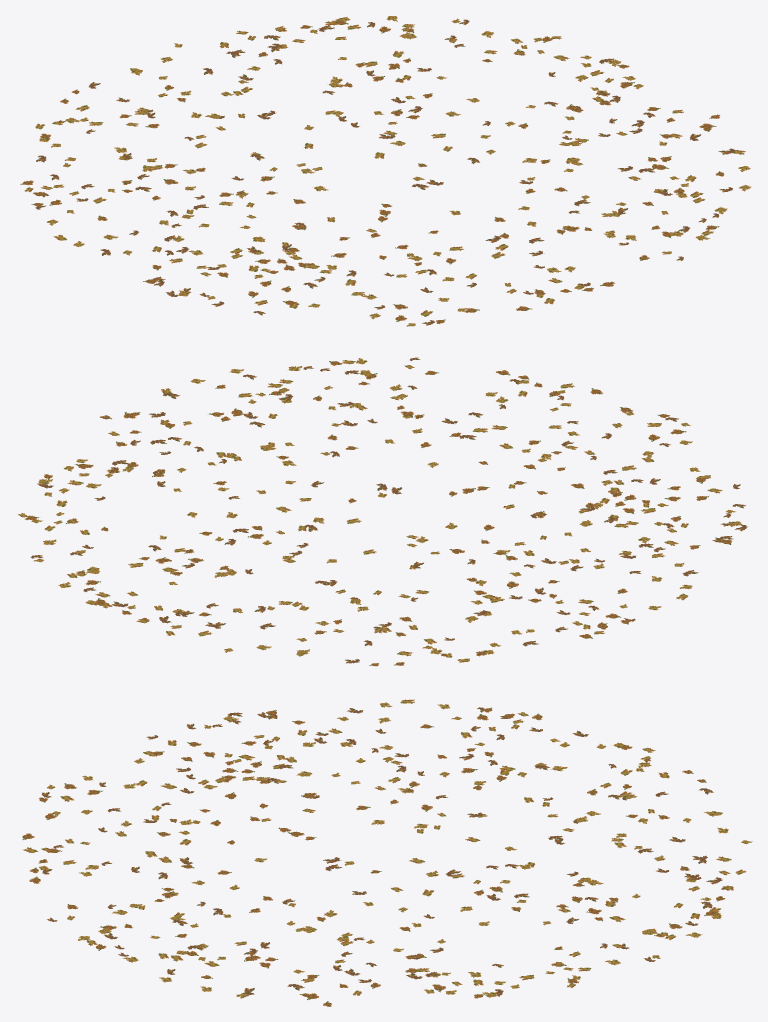
The model's file is chene_adulte_d.fbx.
3 renders of one model, top to bottom at view 1: azimuth 30°, elevation 25°; view 2: azimuth 150°, elevation 25°; view 3: azimuth 270°, elevation 25°, orthographic.
Visible parts, largest first — view 1: chene_adulte_d_feuilles_sol; view 2: chene_adulte_d_feuilles_sol; view 3: chene_adulte_d_feuilles_sol.
Part boxes in pixels (box(x1,y1,x2,y2)): chene_adulte_d_feuilles_sol: box(20, 16, 750, 326); chene_adulte_d_feuilles_sol: box(17, 357, 747, 666); chene_adulte_d_feuilles_sol: box(22, 699, 752, 1006).
Size of what is drawn, in the model's own units: 17.19 by 0.00598 by 17.26.
